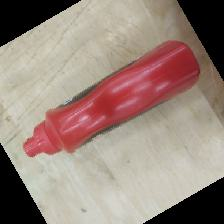Chinsu: (21, 40, 201, 160)
